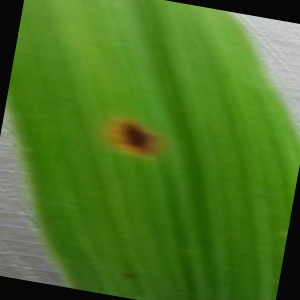Bacterial_Leaf_Blight: (105, 111, 168, 162), (116, 267, 143, 286)
